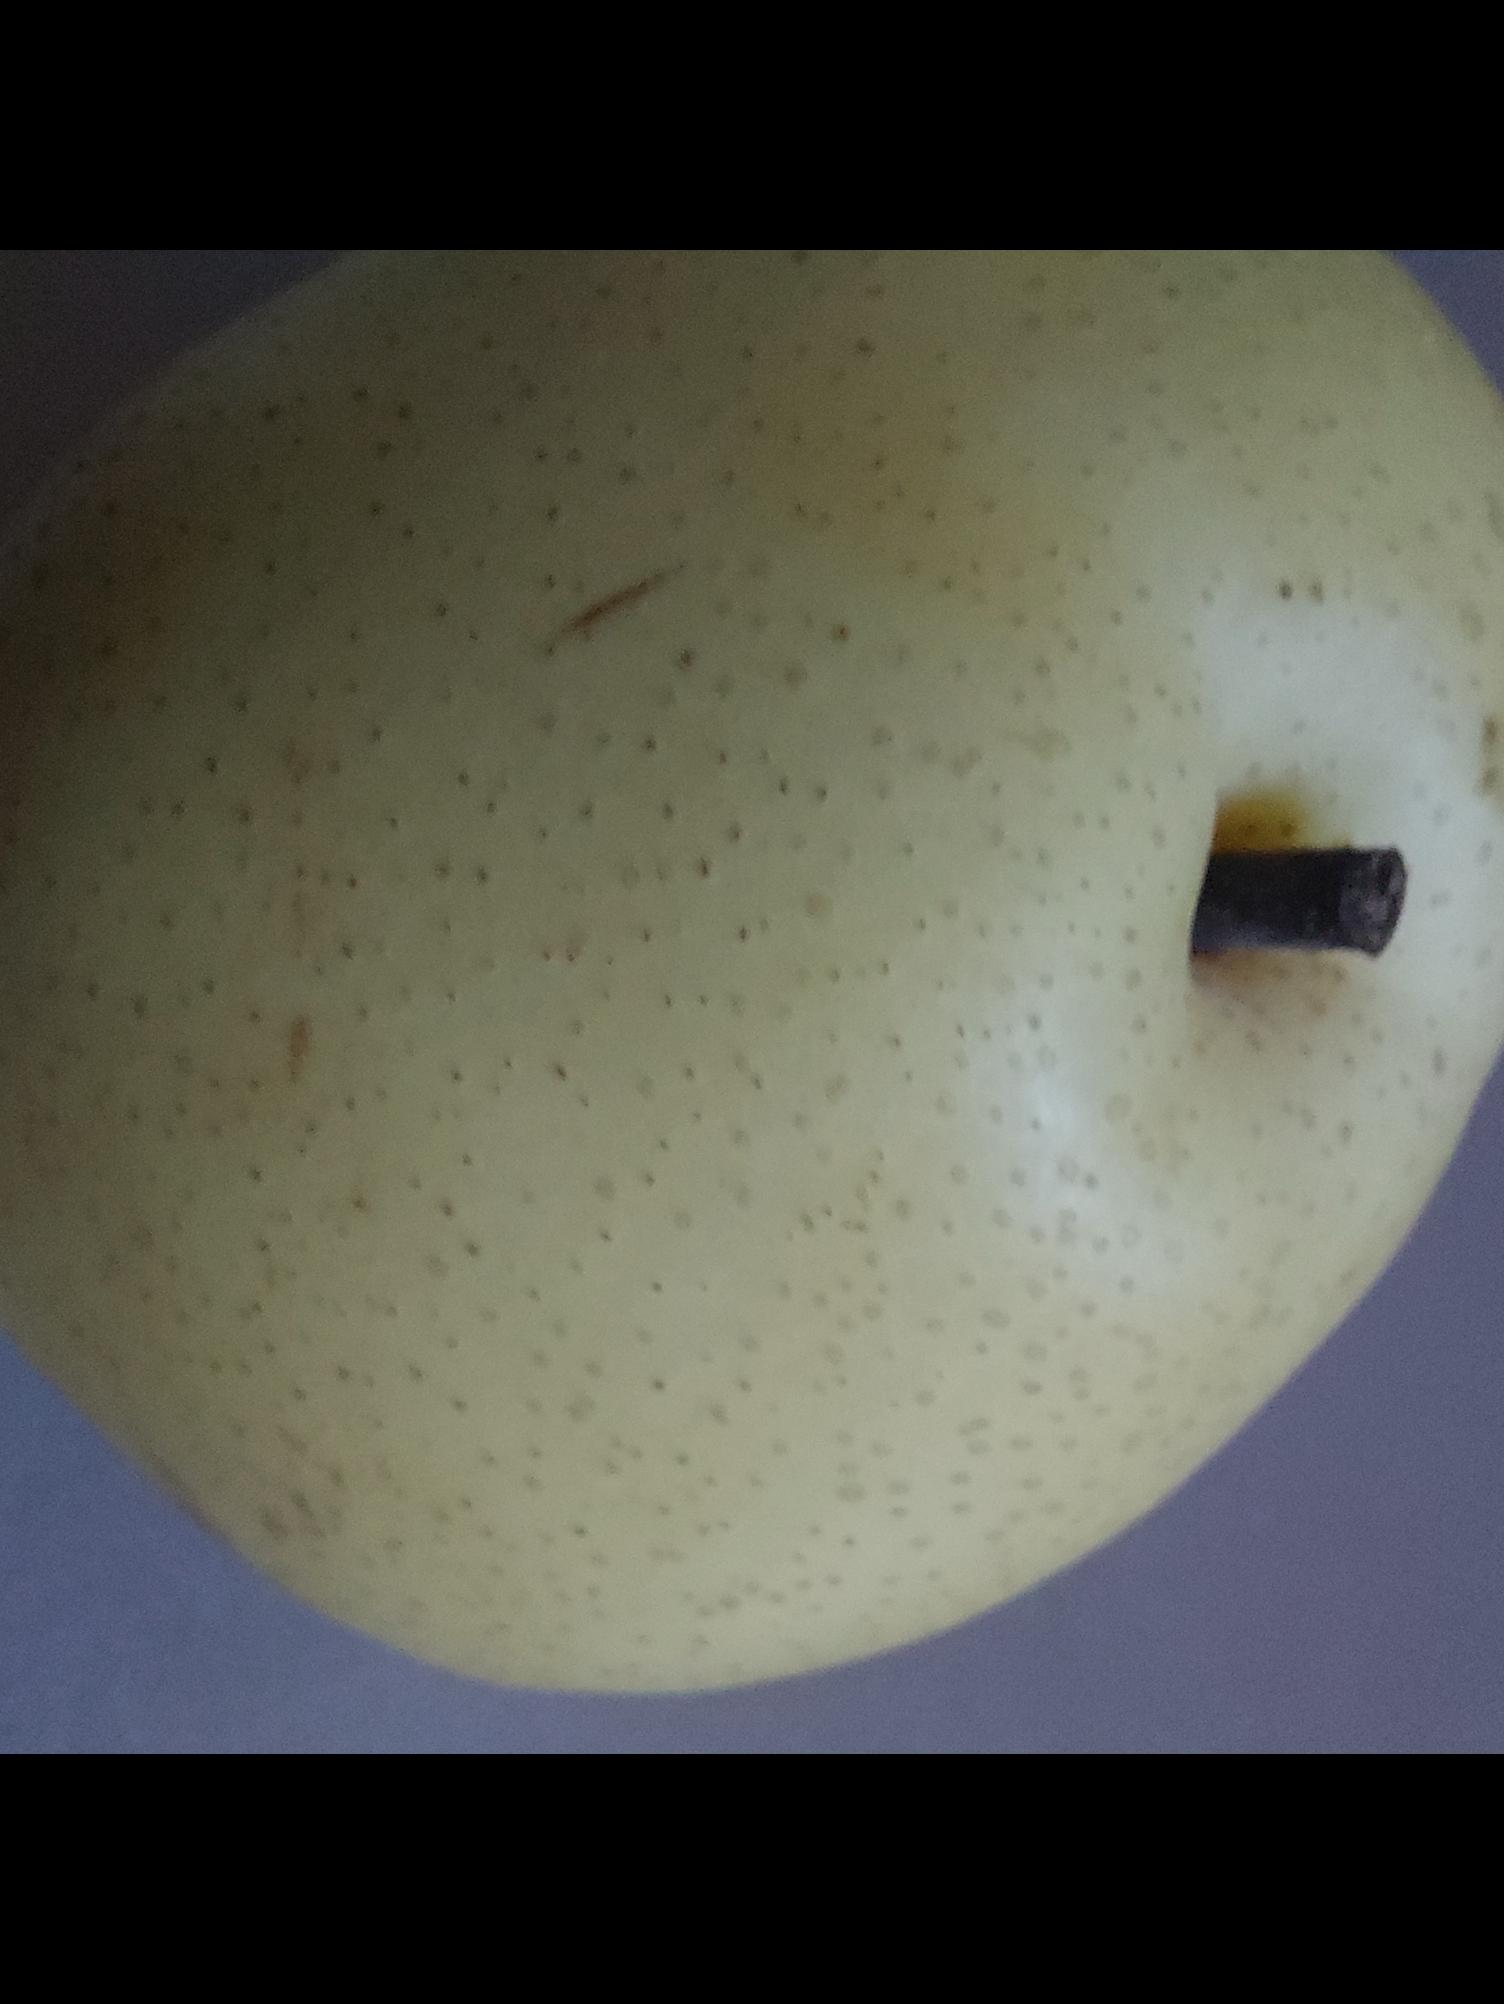Good Pear: (0, 250, 1504, 1706)
